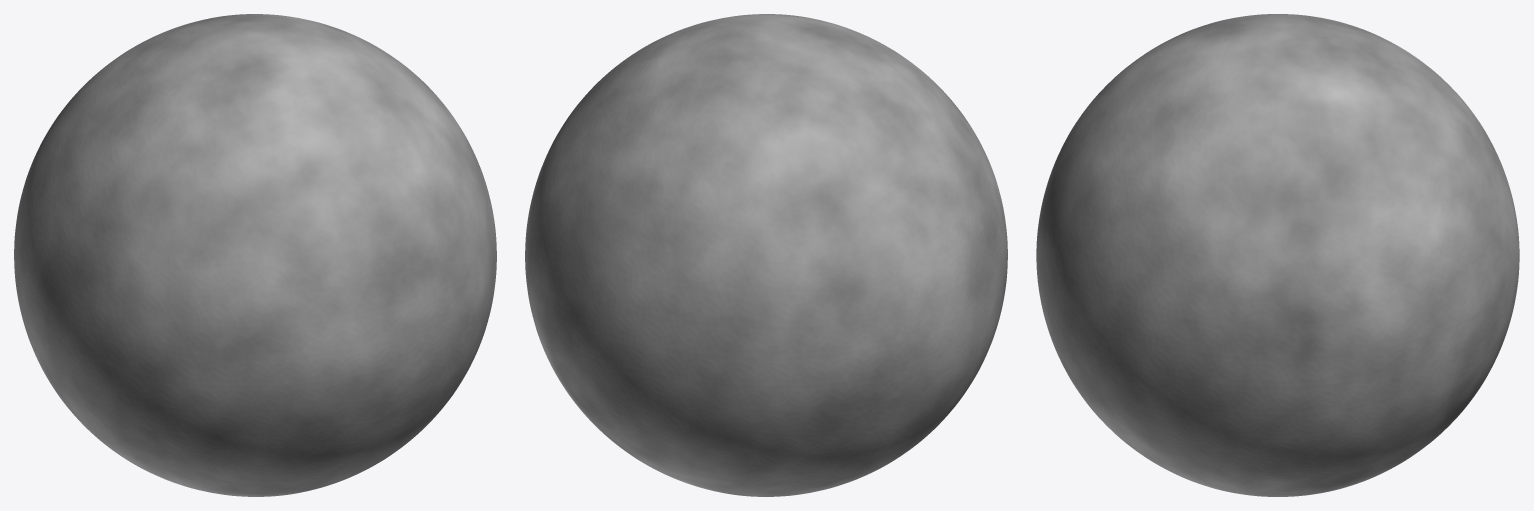
File: LowPolyMoon1.fbx
3 views of the same model, side by side, from view 1: azimuth 30°, elevation 25°; view 2: azimuth 150°, elevation 25°; view 3: azimuth 270°, elevation 25° (orthographic).
Visible parts, largest first — view 1: Moon_Smooth; view 2: Moon_Smooth; view 3: Moon_Smooth.
Boxes of the visible parts, x1,y1,x2,y2 form: Moon_Smooth: [14, 14, 496, 496]; Moon_Smooth: [525, 14, 1007, 496]; Moon_Smooth: [1036, 14, 1519, 496].
Bounding box in the file's own units: 5979 × 5992 × 5982.
